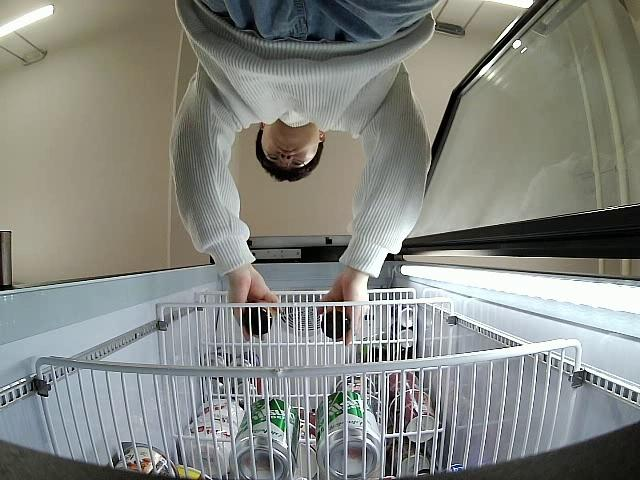00_hand: (231, 264, 279, 343), (317, 269, 367, 344)
17_vita500: (241, 302, 273, 335), (321, 307, 351, 338)
